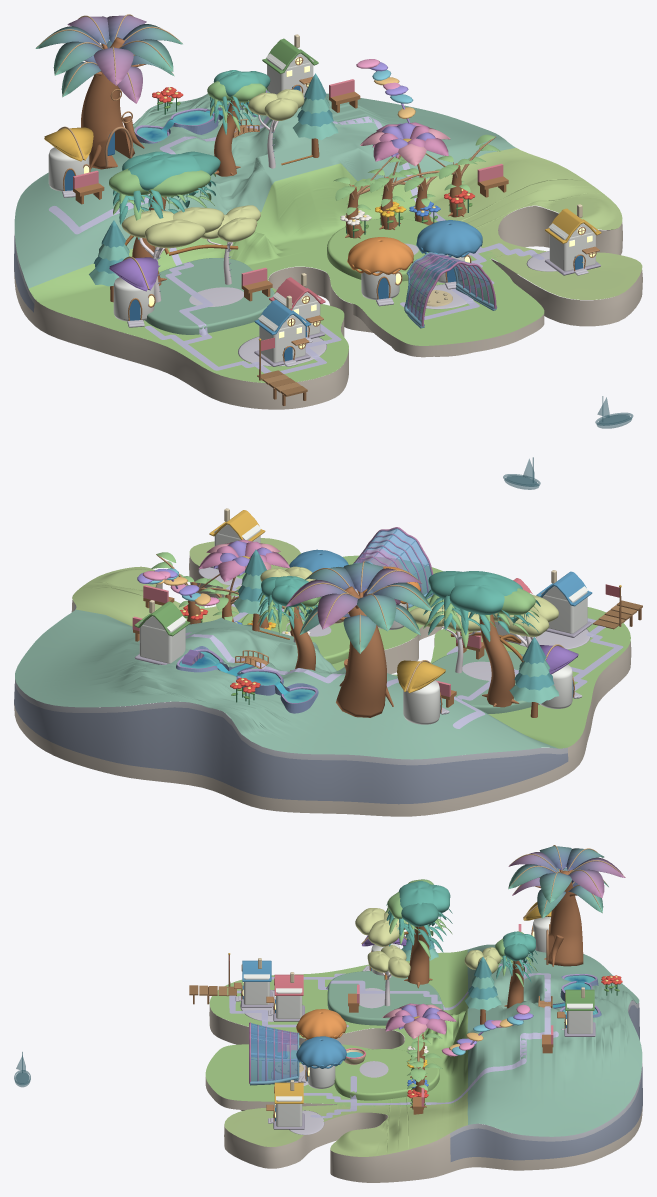
File: study.glb
3 views of the same model, one above another, from view 1: azimuth 30°, elevation 25°; view 2: azimuth 150°, elevation 25°; view 3: azimuth 270°, elevation 25° (orthographic). The views are drawn at different scales.
Visible parts, largest first — view 1: authored-evaluated-floor, Coast / continuous layered shore:0, grove / living violet and jade lamina, growing-reachable-paths, growing-objects, sculpted tree wood.002, authored-bank.051, Harbor__continuous_translucent_shell_hall_1, home / scalloped blue cap, home / scalloped blue cap.001, role-l14-2234, house / porcelain plaster.007 (+34 smaller); view 2: authored-evaluated-floor, Coast / continuous layered shore:1, Coast / continuous layered shore:0, grove / living violet and jade lamina, Coast / continuous layered shore:2, sculpted tree wood.002, growing-reachable-paths, growing-objects, Harbor__continuous_translucent_shell_hall_1, role-l14-2743, house / porcelain plaster.004, house / porcelain plaster (+28 smaller); view 3: authored-evaluated-floor, Coast / continuous layered shore:0, grove / living violet and jade lamina, Coast / continuous layered shore:1, growing-reachable-paths, sculpted tree wood.002, Harbor__continuous_translucent_shell_hall_1, growing-objects, home / scalloped blue cap.001, home / scalloped blue cap, growing-relation-C02, Coast / continuous layered shore:2 (+24 smaller).
Part boxes in pixels (box(x1,y1,x2,y2)): authored-evaluated-floor: box(14, 89, 642, 382); Coast / continuous layered shore:0: box(14, 206, 642, 409); grove / living violet and jade lamina: box(35, 15, 182, 103); growing-reachable-paths: box(49, 116, 544, 373); growing-objects: box(73, 79, 506, 306); sculpted tree wood.002: box(81, 37, 144, 169); authored-bank.051: box(353, 304, 544, 357); Harbor__continuous_translucent_shell_hall_1: box(406, 257, 493, 322); home / scalloped blue cap: box(347, 237, 413, 274); home / scalloped blue cap.001: box(416, 220, 482, 257); role-l14-2234: box(128, 154, 201, 191); house / porcelain plaster.007: box(548, 223, 596, 271); authored-evaluated-floor: box(15, 538, 630, 759); Coast / continuous layered shore:1: box(14, 609, 568, 804); Coast / continuous layered shore:0: box(14, 555, 631, 816); grove / living violet and jade lamina: box(286, 562, 431, 653); Coast / continuous layered shore:2: box(15, 604, 567, 765); sculpted tree wood.002: box(336, 586, 393, 717); growing-reachable-paths: box(185, 579, 623, 728); growing-objects: box(132, 585, 484, 707); Harbor__continuous_translucent_shell_hall_1: box(355, 528, 431, 594); role-l14-2743: box(480, 614, 515, 707); house / porcelain plaster.004: box(139, 616, 186, 663); house / porcelain plaster: box(541, 586, 588, 633); authored-evaluated-floor: box(205, 944, 642, 1156); Coast / continuous layered shore:0: box(209, 952, 642, 1182); grove / living violet and jade lamina: box(508, 846, 625, 918); Coast / continuous layered shore:1: box(450, 1000, 642, 1161); growing-reachable-paths: box(229, 960, 558, 1118); sculpted tree wood.002: box(544, 870, 583, 966); Harbor__continuous_translucent_shell_hall_1: box(251, 1023, 297, 1081); growing-objects: box(275, 924, 622, 1114); home / scalloped blue cap.001: box(296, 1036, 346, 1068); home / scalloped blue cap: box(296, 1009, 346, 1039); growing-relation-C02: box(441, 1004, 533, 1056); Coast / continuous layered shore:2: box(450, 951, 642, 1141).
Size of the model in its own units: 15.34 by 5.82 by 19.47.
